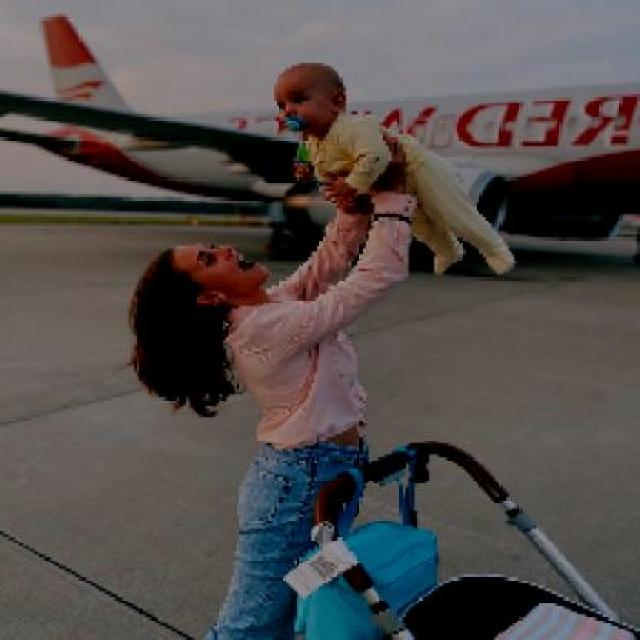child: (274, 61, 517, 276)
